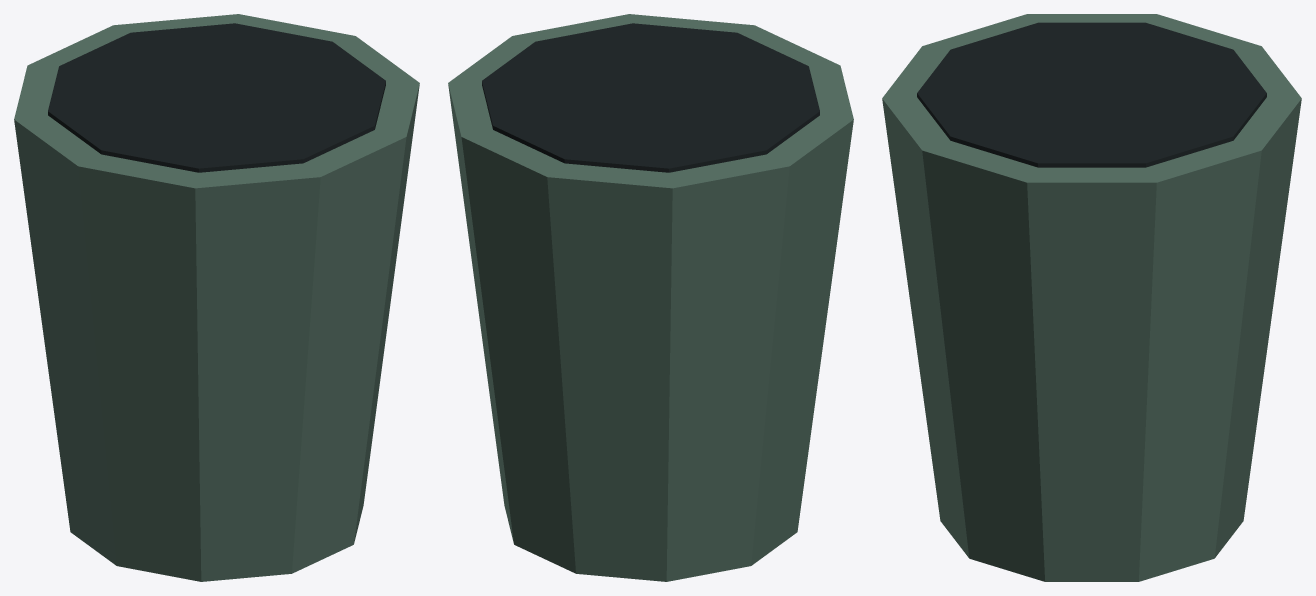
The model's file is bin.glb.
3 renders of one model, left to right at view 1: azimuth 30°, elevation 25°; view 2: azimuth 150°, elevation 25°; view 3: azimuth 270°, elevation 25°, orthographic.
Visible parts, largest first — view 1: bin; view 2: bin; view 3: bin.
Part boxes in pixels (x1=…): bin: x1=14, y1=14, x2=419, y2=581; bin: x1=448, y1=14, x2=853, y2=581; bin: x1=882, y1=14, x2=1301, y2=581.
Size of the model in its own units: 0.3424 by 0.405 by 0.36.
